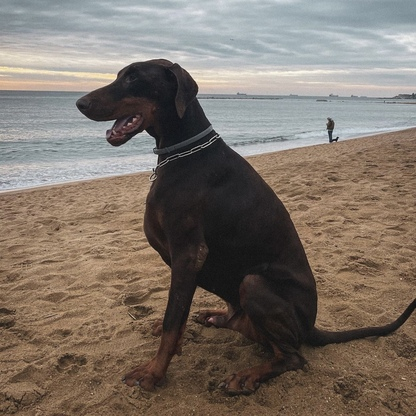doberman: (71, 56, 322, 398)
